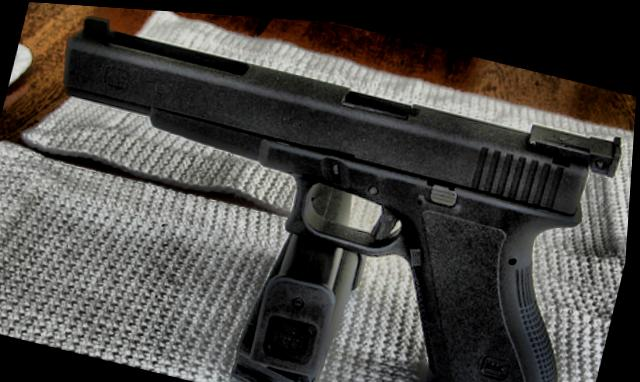pistol: (5, 1, 629, 382)
